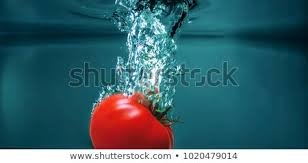tomato: (90, 93, 174, 149)
